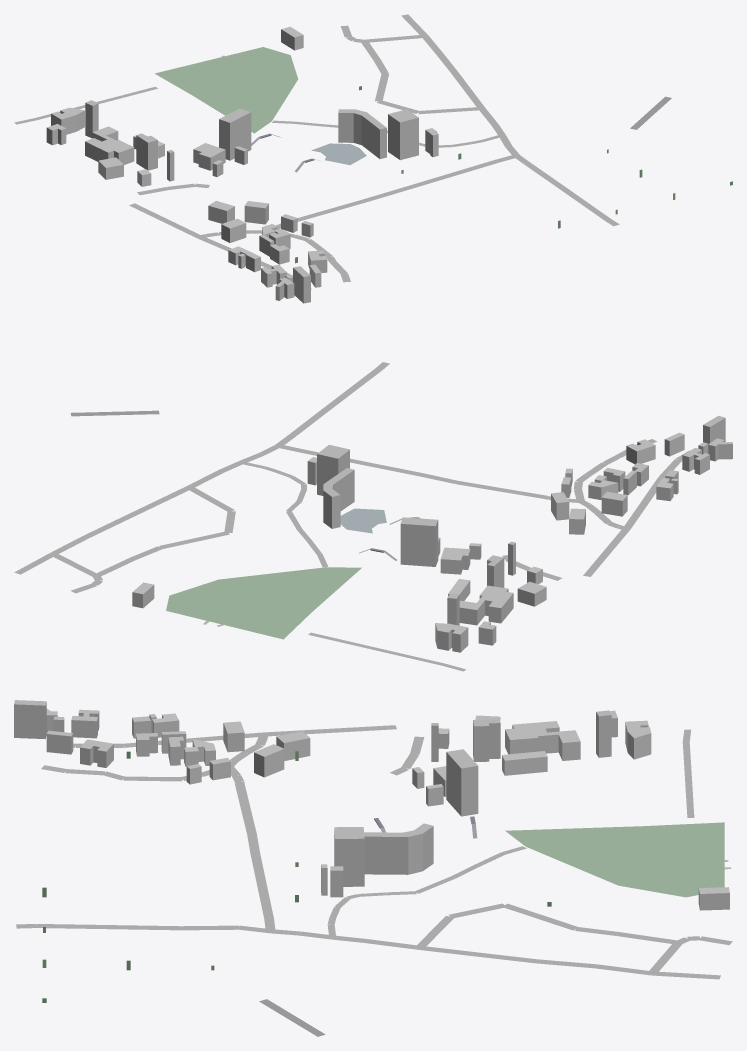
The picture shows the model from 3 angles, top to bottom: view 1: azimuth 30°, elevation 25°; view 2: azimuth 150°, elevation 25°; view 3: azimuth 270°, elevation 25°; orthographic projection. The views are drawn at different scales.
Size of the model in its own units: 536 by 43.03 by 513.
